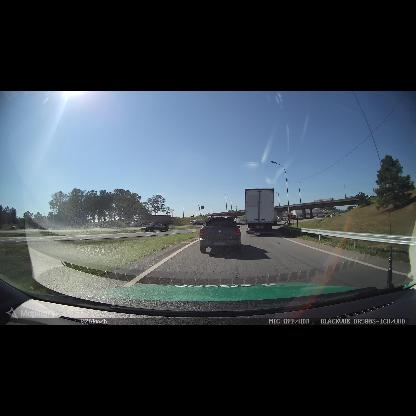R-2: (290, 214, 295, 219)
